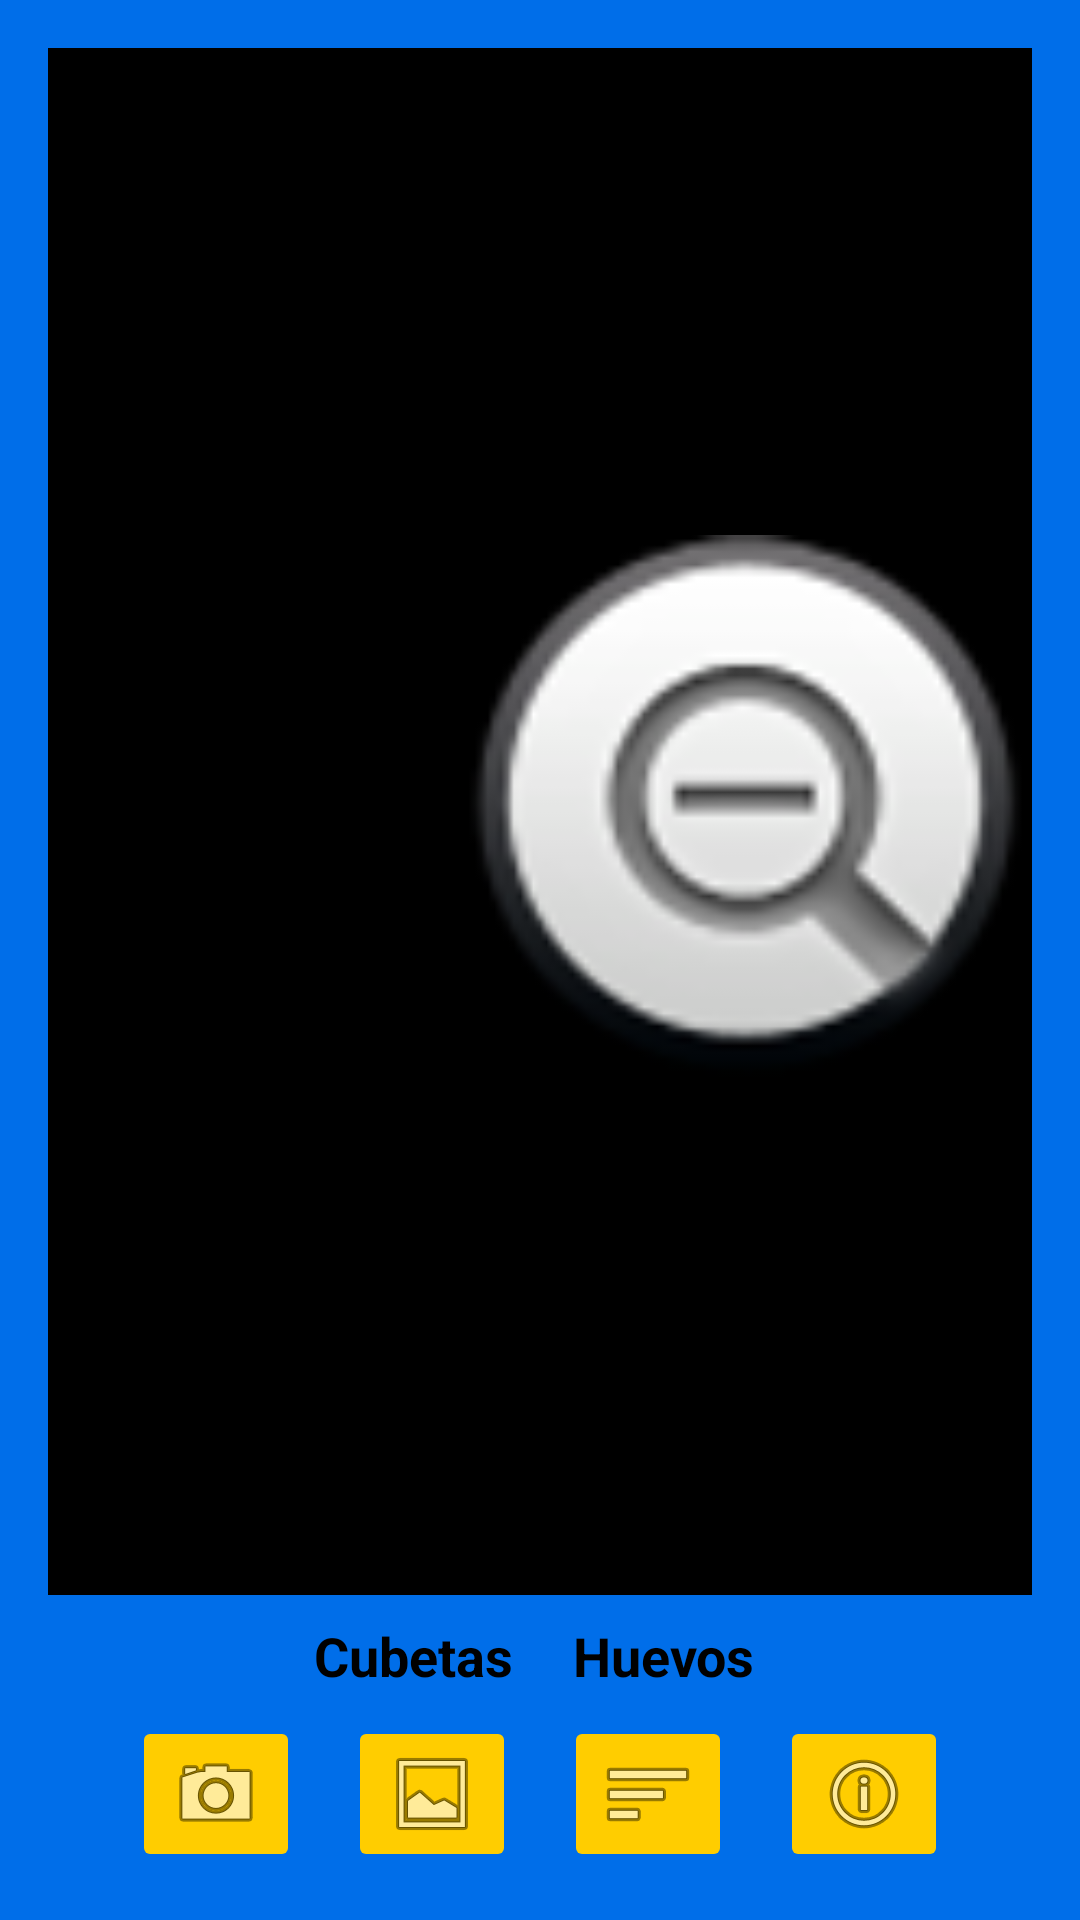

Icon bounding boxes for this 1080 x 1920 phone screenshot, format (x1, y1, x2, y2):
Galeria: (360, 1734, 504, 1854)
Informacion: (792, 1734, 936, 1854)
sort by size: (576, 1734, 720, 1854)
Tomar una foto: (144, 1734, 288, 1854)
